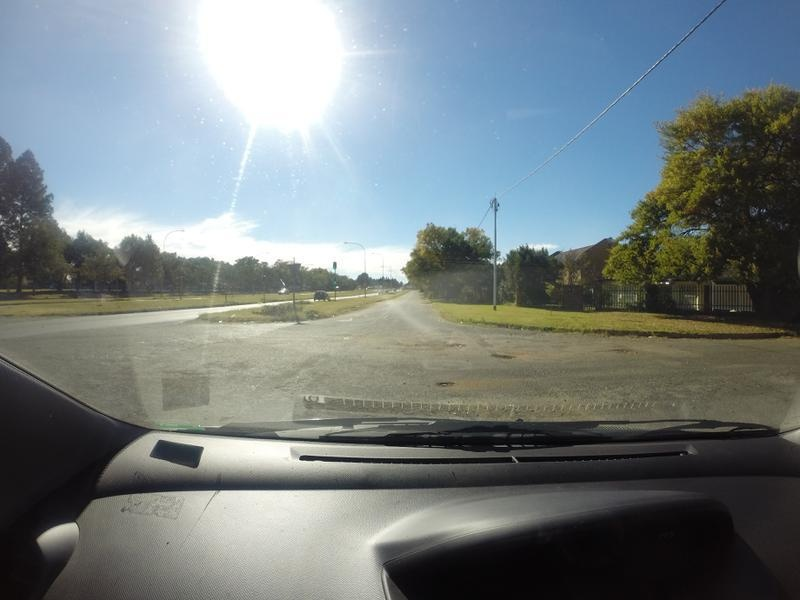pothole: (596, 345, 636, 359), (478, 352, 517, 363), (427, 380, 454, 388)
